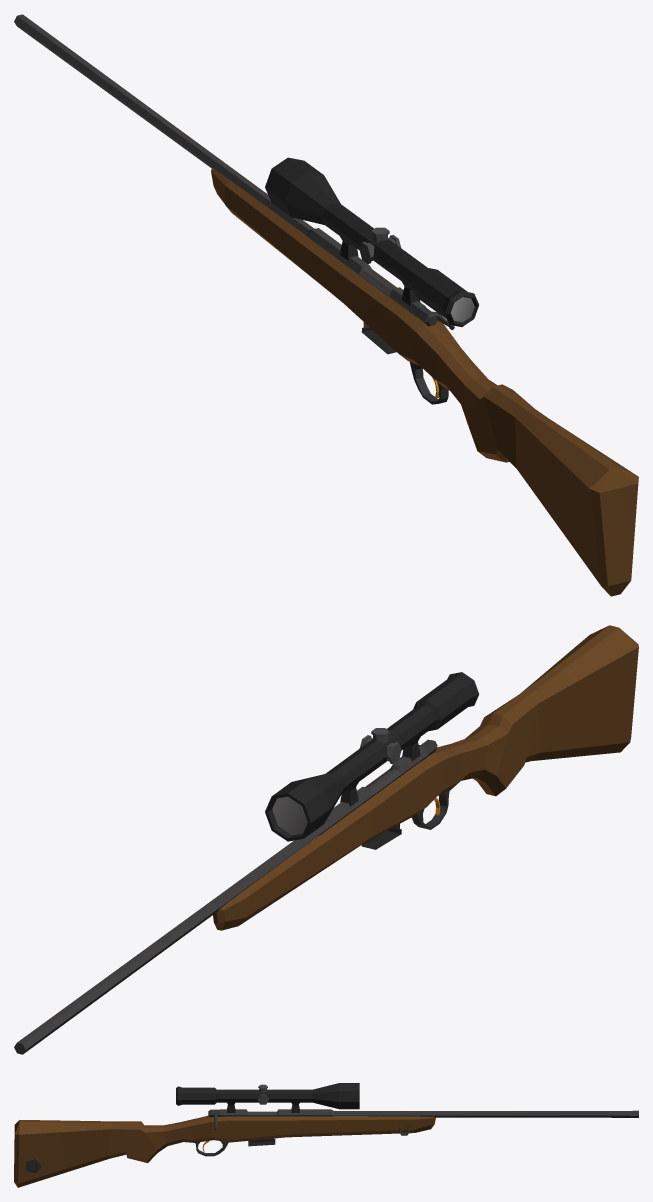
File: HuntingRifle.fbx
3 renders of one model, top to bottom at view 1: azimuth 30°, elevation 25°; view 2: azimuth 150°, elevation 25°; view 3: azimuth 270°, elevation 25°, orthographic. The views are drawn at different scales.
Parts seen in each view (by area): view 1: Hunting Rifle; view 2: Hunting Rifle; view 3: Hunting Rifle, Magazine.
Part boxes in pixels (<box>): Hunting Rifle: <box>14,14,638,596</box>; Hunting Rifle: <box>14,625,638,1054</box>; Hunting Rifle: <box>14,1083,638,1187</box>; Magazine: <box>248,1138,275,1146</box>.
Size of the model in its own units: 4.96 by 17.8 by 97.77.
1 material, 1 textured.
